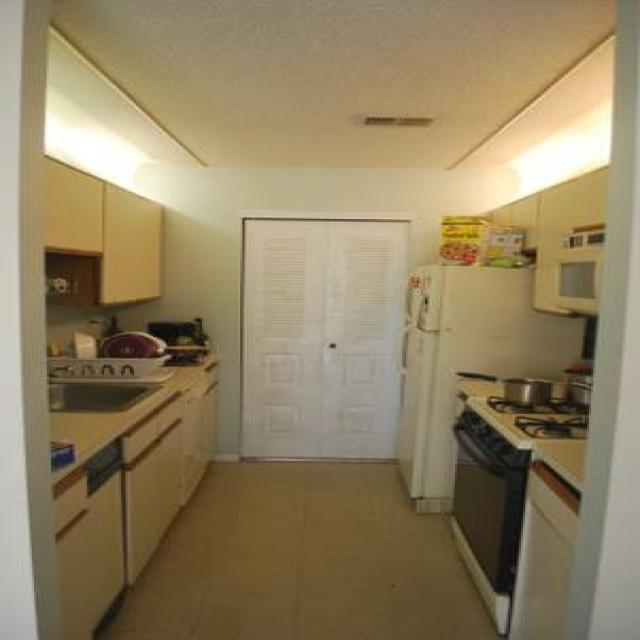bowl: (96, 332, 169, 358)
microwave: (532, 249, 605, 319)
oven: (446, 391, 602, 606)
refrigerator: (392, 259, 583, 519)
sink: (48, 383, 169, 418)
